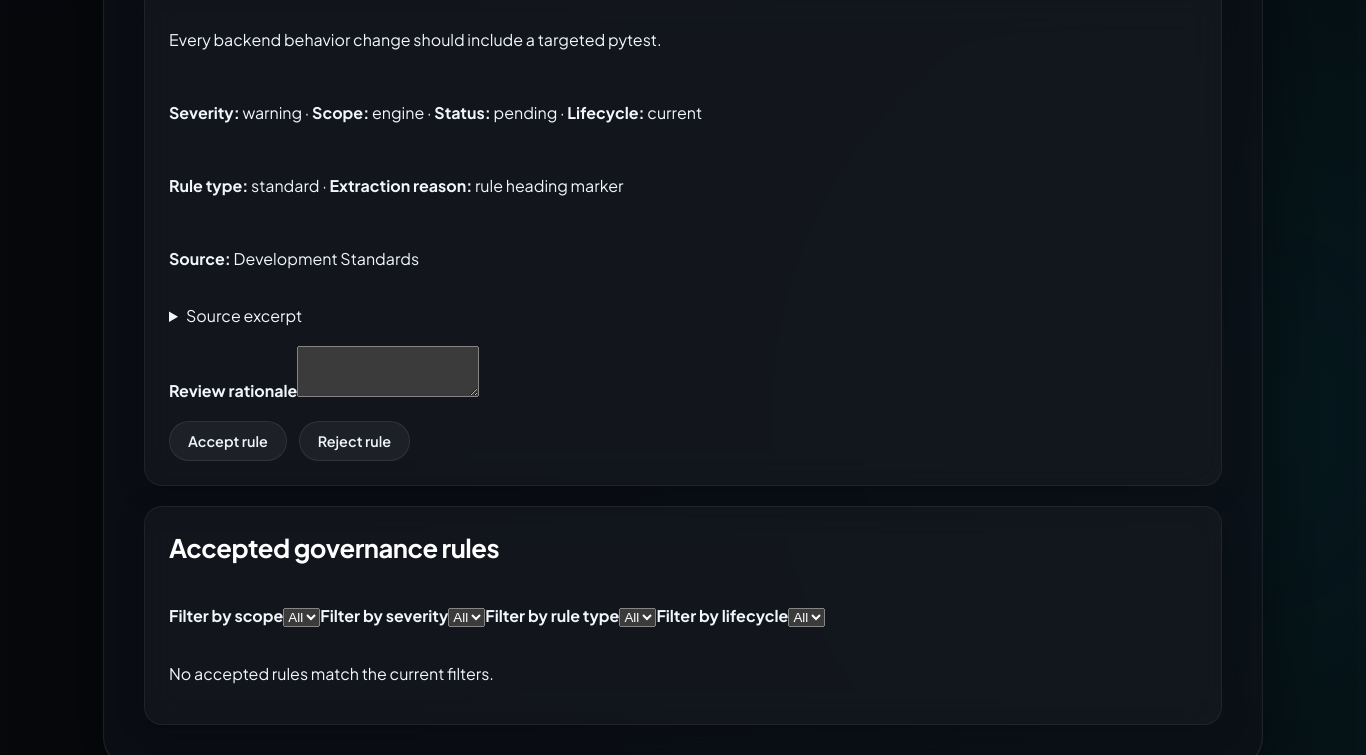
Scenario: GovernancePageContent › accepts pending rule drafts without a reload
This screenshot has width=1366, height=755.
(page scrolled)
Expected: the button "Accept rule" is shown, [169,421,287,461]
Step 1. Type "Clear validation rule." into the text box labelled "Review rationale" → (388, 372), box [297,346,479,397]
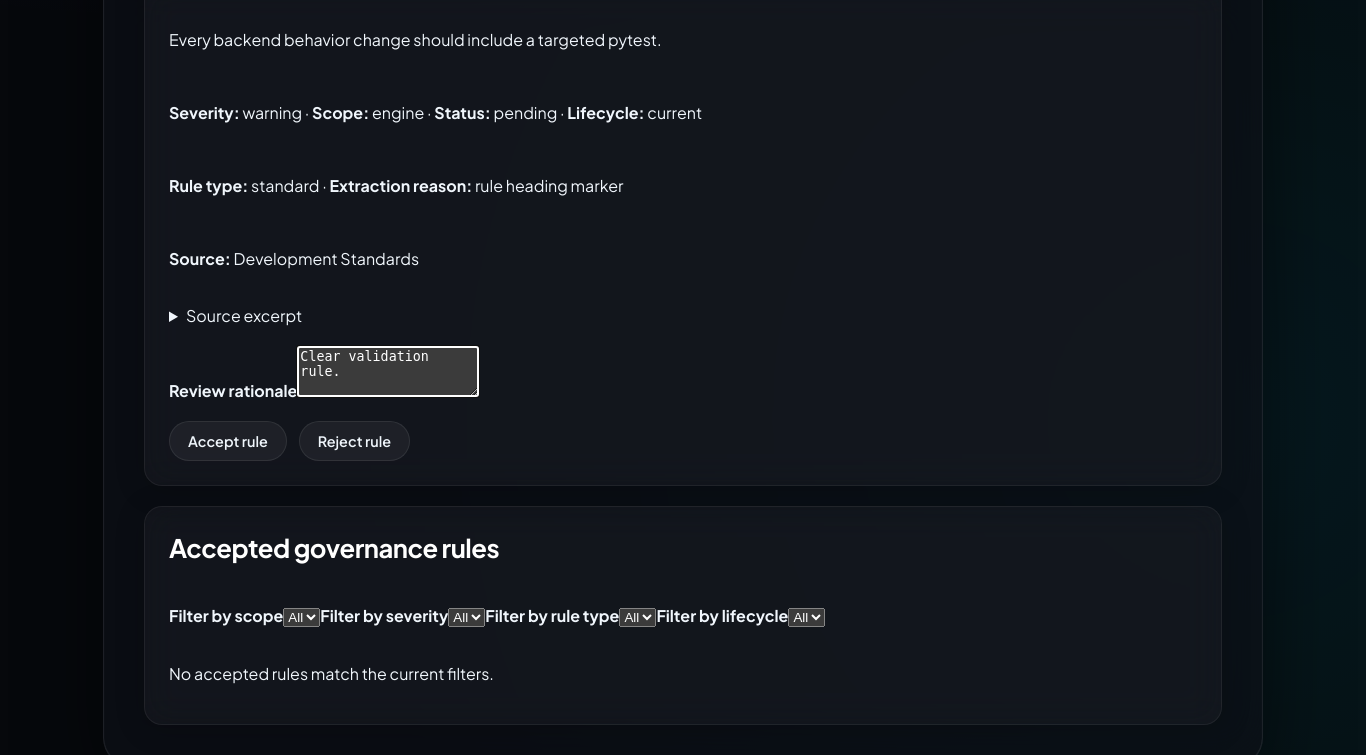
Step 2. Click the button "Accept rule" → click(228, 441), box [169,421,287,461]
(page scrolled)
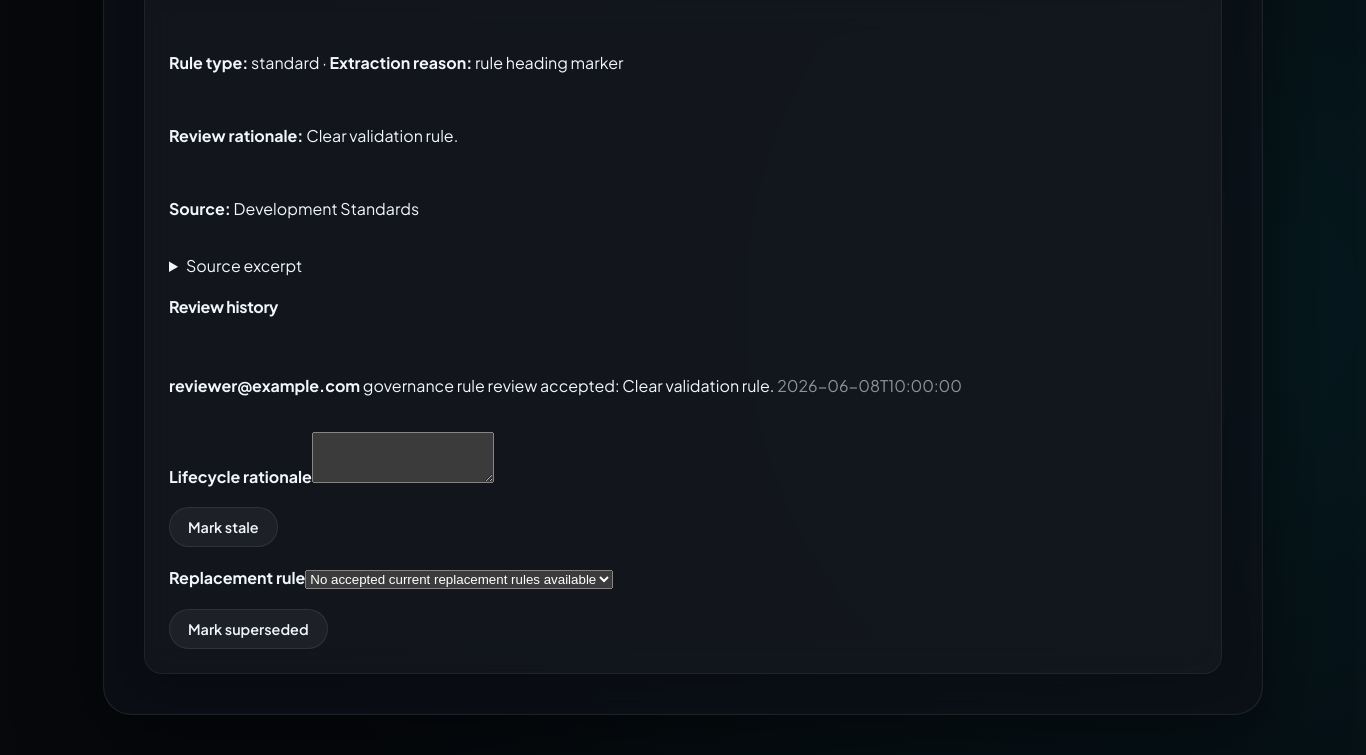
Now the text "Review rationale: Clear validation rule." is shown, box [169,125,458,146]
Now the heading "Review history" is shown, box [169,296,278,317]
Now the text "reviewer@example.com" is shown, box [169,375,360,396]
